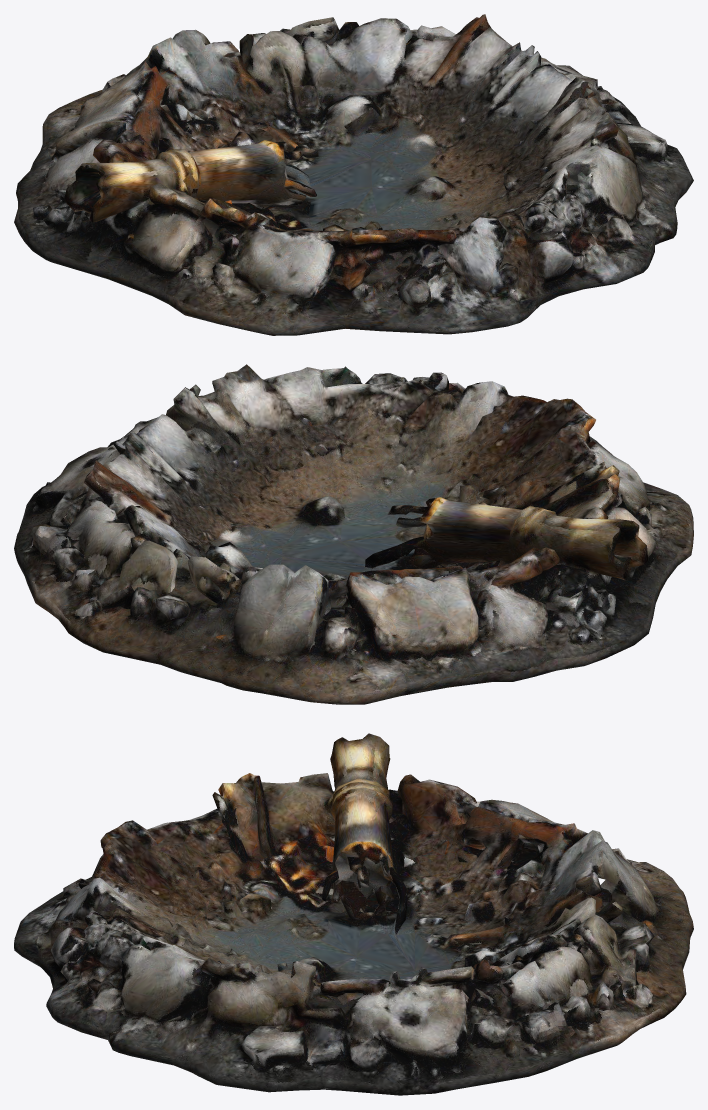
File: t5-crater-pipe.glb
3 renders of one model, top to bottom at view 1: azimuth 30°, elevation 25°; view 2: azimuth 150°, elevation 25°; view 3: azimuth 270°, elevation 25°, orthographic.
Parts seen in each view (by area): view 1: t5-crater-pipe.glb; view 2: t5-crater-pipe.glb; view 3: t5-crater-pipe.glb.
Boxes of the visible parts, left/top/right/bottom form: t5-crater-pipe.glb: left=14, top=14, right=693, bottom=335; t5-crater-pipe.glb: left=14, top=364, right=693, bottom=704; t5-crater-pipe.glb: left=14, top=733, right=693, bottom=1095.
Size of the model in its own units: 1 by 0.1502 by 0.9964.
1 material, 1 textured.
